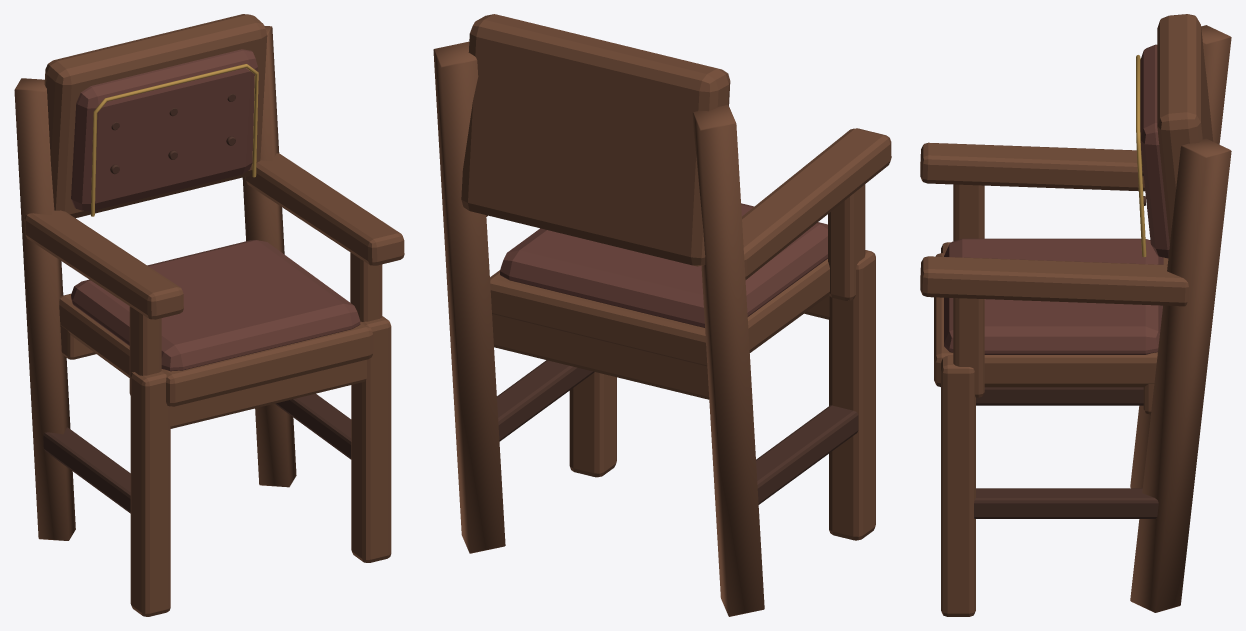
File: InspectorChair.fbx
The picture shows the model from 3 angles, left to right: view 1: azimuth 30°, elevation 25°; view 2: azimuth 150°, elevation 25°; view 3: azimuth 270°, elevation 25°; orthographic projection. The views are drawn at different scales.
Parts seen in each view (by area): view 1: Leather back cushion, Leather seat cushion, Rear upright, Walnut back frame, Front leg, Seat pan, Front leg.001, Armrest, Armrest.001, Rear upright.001, Seat rail, Side stretcher (+5 smaller); view 2: Walnut back frame, Rear upright, Rear upright.001, Leather seat cushion, Seat pan, Front leg, Armrest, Seat rail.001, Front leg.001, Side stretcher, Side stretcher.001, Arm support; view 3: Rear upright.001, Leather seat cushion, Armrest.001, Armrest, Front leg.001, Walnut back frame, Seat pan, Side stretcher.001, Leather back cushion, Rear upright, Side stretcher, Arm support.001 (+2 smaller).
Part boxes in pixels (box(x1,y1,x2,y2)): Leather back cushion: box(71, 49, 257, 211); Leather seat cushion: box(71, 240, 360, 371); Rear upright: box(14, 78, 75, 540); Walnut back frame: box(44, 14, 267, 218); Front leg: box(130, 371, 170, 616); Seat pan: box(59, 293, 373, 406); Front leg.001: box(351, 316, 391, 562); Armrest: box(24, 210, 183, 319); Armrest.001: box(245, 153, 404, 265); Rear upright.001: box(242, 25, 296, 487); Seat rail: box(170, 359, 366, 428); Side stretcher: box(43, 427, 130, 513); Walnut back frame: box(461, 14, 730, 266); Rear upright: box(692, 105, 764, 616); Rear upright.001: box(433, 41, 505, 553); Leather seat cushion: box(500, 203, 827, 327); Seat pan: box(490, 259, 829, 366); Front leg: box(829, 250, 875, 540); Armrest: box(742, 128, 891, 279); Seat rail.001: box(492, 314, 709, 399); Front leg.001: box(569, 372, 616, 477); Side stretcher: box(756, 405, 858, 504); Side stretcher.001: box(497, 360, 594, 441); Arm support: box(828, 184, 865, 300); Rear upright.001: box(1130, 138, 1231, 612); Leather seat cushion: box(944, 238, 1163, 354); Armrest.001: box(920, 256, 1188, 306); Armrest: box(920, 142, 1145, 191); Front leg.001: box(941, 355, 975, 616); Walnut back frame: box(1157, 14, 1213, 244); Seat pan: box(934, 253, 1168, 387); Side stretcher.001: box(974, 488, 1158, 518); Leather back cushion: box(1140, 44, 1169, 258); Rear upright: box(1130, 25, 1231, 488); Side stretcher: box(976, 387, 1143, 405); Arm support.001: box(953, 298, 984, 397).
Bounding box in the file's own units: 0.622 × 1.08 × 0.6164.
